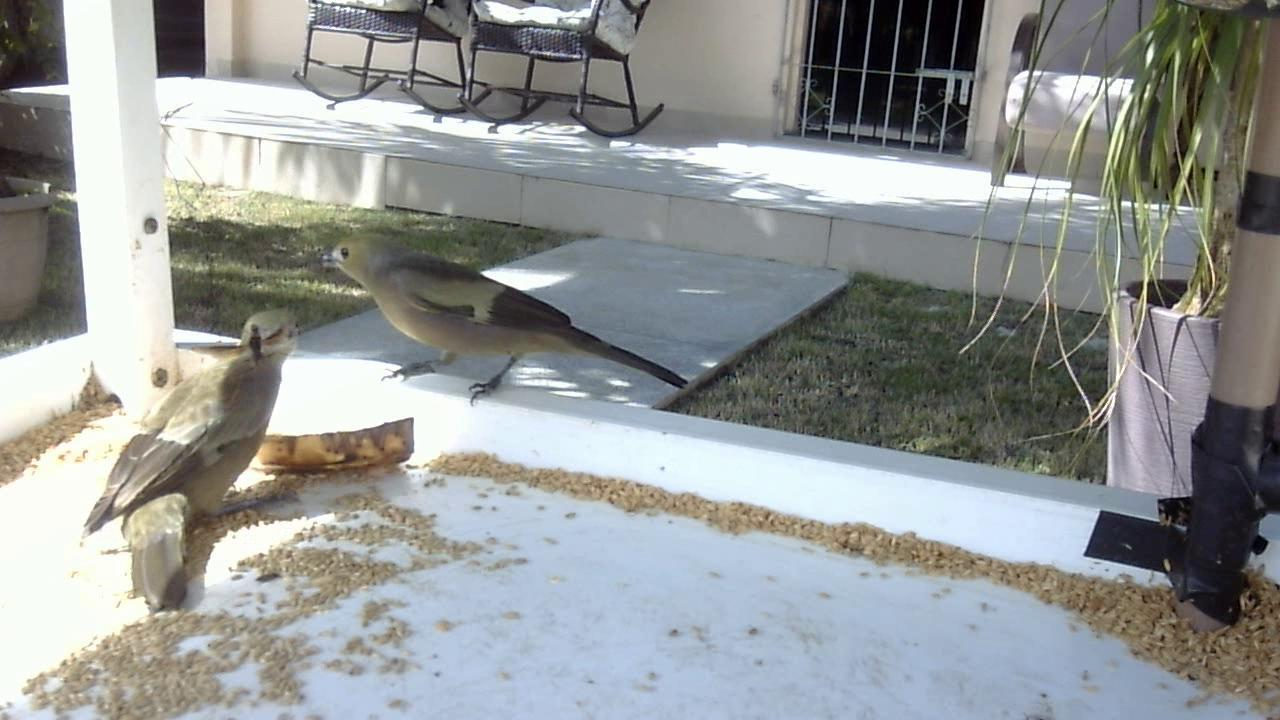sanhaco_do_coqueiro: (321, 225, 701, 417), (70, 308, 316, 595)
